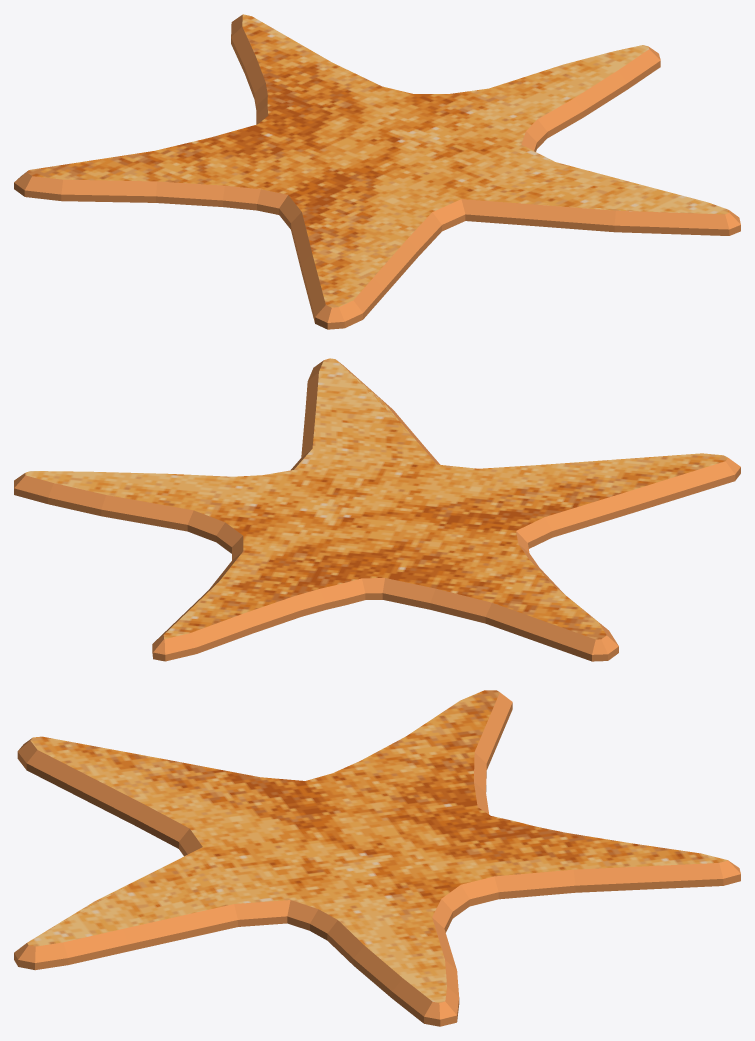
File: Estrela.fbx
The picture shows the model from 3 angles, top to bottom: view 1: azimuth 30°, elevation 25°; view 2: azimuth 150°, elevation 25°; view 3: azimuth 270°, elevation 25°; orthographic projection. The views are drawn at different scales.
Visible parts, largest first — view 1: Plane; view 2: Plane; view 3: Plane.
Boxes of the visible parts, x1,y1,x2,y2 form: Plane: (14,14,740,329); Plane: (14,358,740,661); Plane: (14,690,740,1026).
Size of the model in its own units: 92.59 by 2.41 by 87.9.
1 material, 1 textured.
